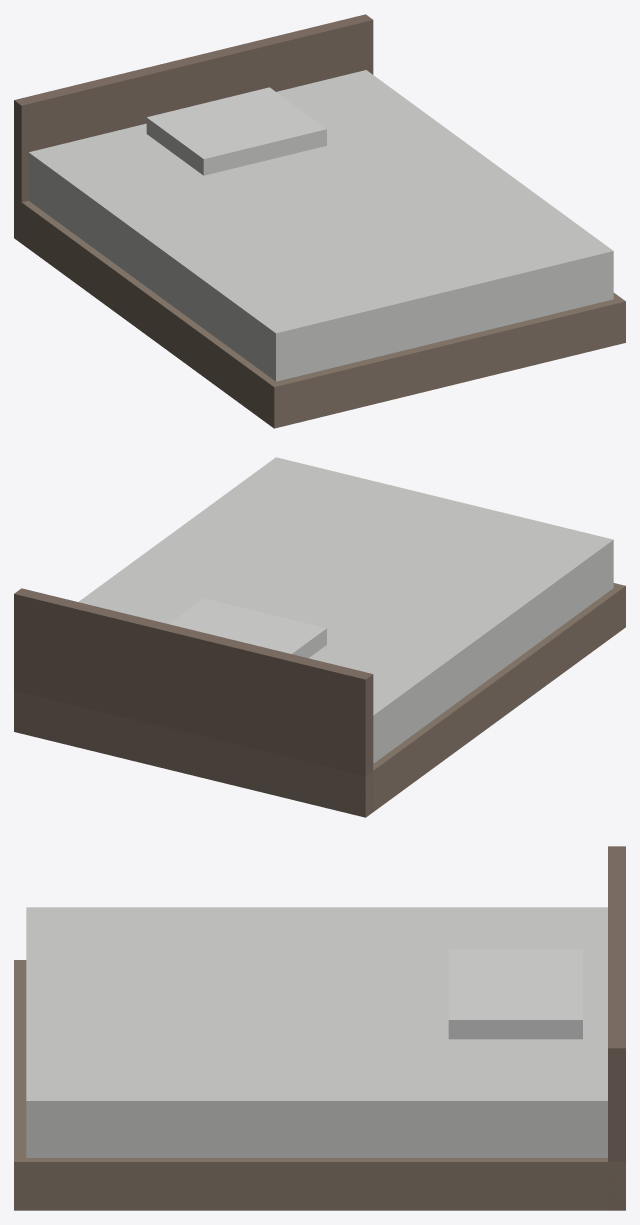
Rendered from cat_bed_queen-frame.glb.
The picture shows the model from 3 angles, top to bottom: view 1: azimuth 30°, elevation 25°; view 2: azimuth 150°, elevation 25°; view 3: azimuth 270°, elevation 25°; orthographic projection. The views are drawn at different scales.
Visible parts, largest first — view 1: geometry_1, geometry_0, geometry_2, geometry_3; view 2: geometry_1, geometry_2, geometry_0, geometry_3; view 3: geometry_1, geometry_0, geometry_3, geometry_2.
Boxes of the visible parts, bbox=[...] form: geometry_1: bbox=[28, 70, 613, 381]; geometry_0: bbox=[14, 197, 625, 428]; geometry_2: bbox=[14, 14, 373, 240]; geometry_3: bbox=[146, 87, 326, 175]; geometry_1: bbox=[78, 457, 613, 763]; geometry_2: bbox=[14, 588, 373, 816]; geometry_0: bbox=[14, 583, 625, 817]; geometry_3: bbox=[169, 598, 326, 658]; geometry_1: bbox=[26, 907, 607, 1157]; geometry_0: bbox=[14, 960, 625, 1210]; geometry_3: bbox=[448, 949, 582, 1039]; geometry_2: bbox=[608, 846, 625, 1210].
Bounding box in the file's own units: 1.6 × 0.6 × 2.05.
